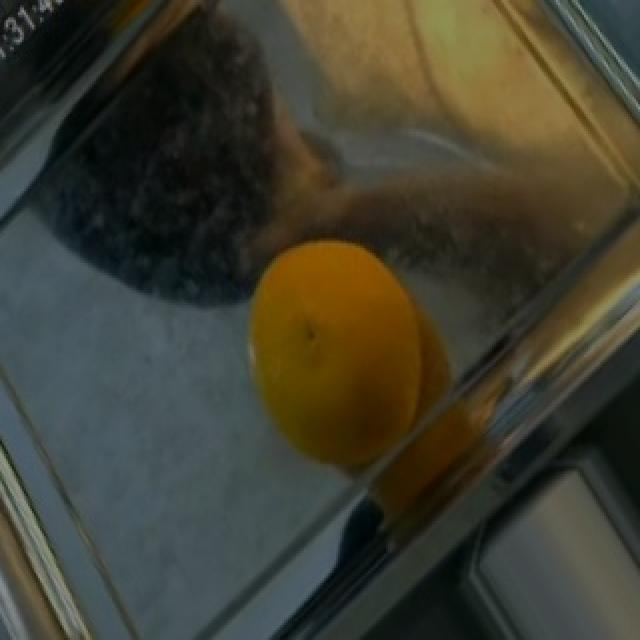Fruit: (220, 213, 456, 499)
